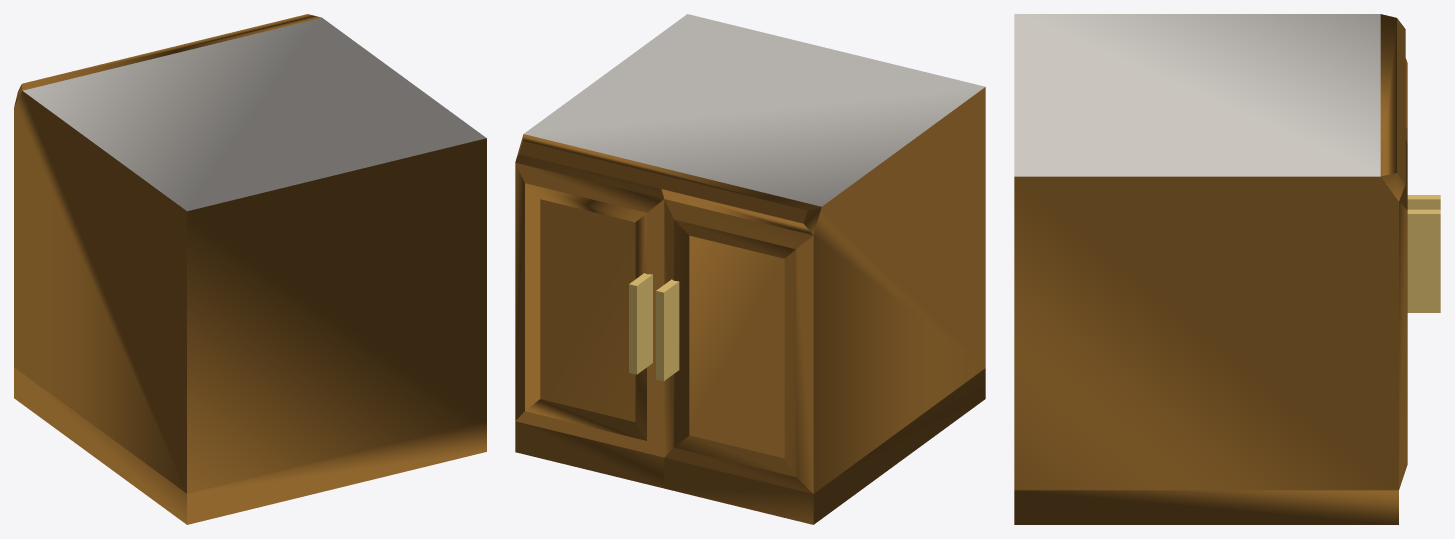
File: Counter_v02.fbx
The picture shows the model from 3 angles, left to right: view 1: azimuth 30°, elevation 25°; view 2: azimuth 150°, elevation 25°; view 3: azimuth 270°, elevation 25°; orthographic projection. The views are drawn at different scales.
Visible parts, largest first — view 1: Counter; view 2: Counter, handle, handle_2; view 3: Counter, handle, handle_2.
Part boxes in pixels (x1,y1,x2,y2): Counter: (14,14,486,524); Counter: (515,14,985,524); handle: (629,273,652,374); handle_2: (656,279,679,381); Counter: (1014,14,1407,524); handle: (1407,209,1440,312); handle_2: (1407,195,1440,209).
Bounding box in the file's own units: 110 × 110 × 122.
